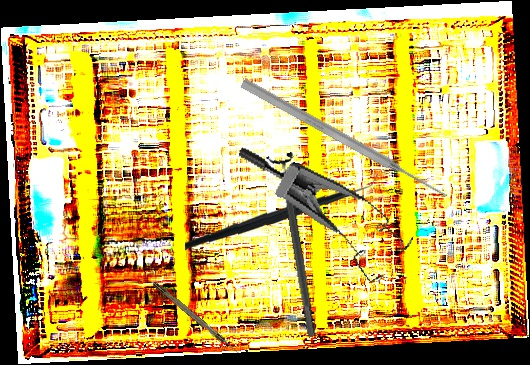Chopper: (184, 163, 379, 257)
Fixation Ring: (265, 151, 326, 340)
Hook Surgical: (151, 280, 241, 356)
Pusher: (238, 76, 451, 203)
Speculum: (214, 146, 425, 290)
